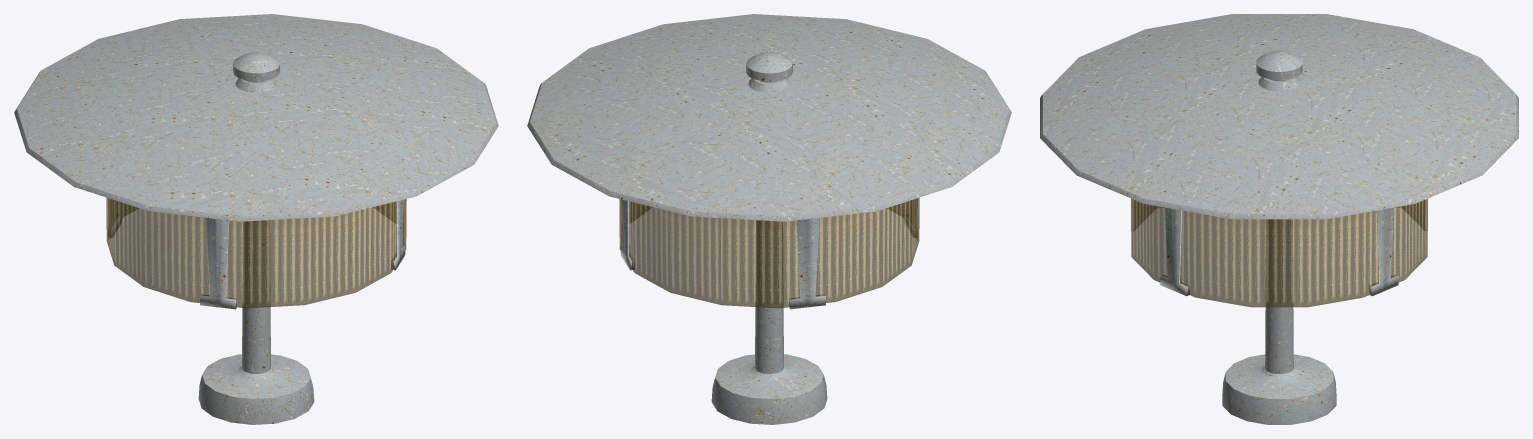
The model's file is RSL.glb.
3 renders of one model, left to right at view 1: azimuth 30°, elevation 25°; view 2: azimuth 150°, elevation 25°; view 3: azimuth 270°, elevation 25°, orthographic.
Visible parts, largest first — view 1: RSL; view 2: RSL; view 3: RSL.
Boxes of the visible parts, left/top/right/bottom form: RSL: left=14, top=14, right=498, bottom=424; RSL: left=527, top=14, right=1011, bottom=424; RSL: left=1040, top=14, right=1518, bottom=424.
Size of the model in its own units: 0.7616 by 0.6094 by 0.7616.
4 materials, 3 textured.
